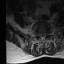CCS_severe_stenosis: (42, 34, 44, 41)
LFS_severe_stenosis: (45, 33, 47, 37)
LLS_normal: (44, 34, 46, 40)
RFS_severe_stenosis: (38, 34, 40, 39)
RLS_stenosis: (40, 35, 42, 40)
